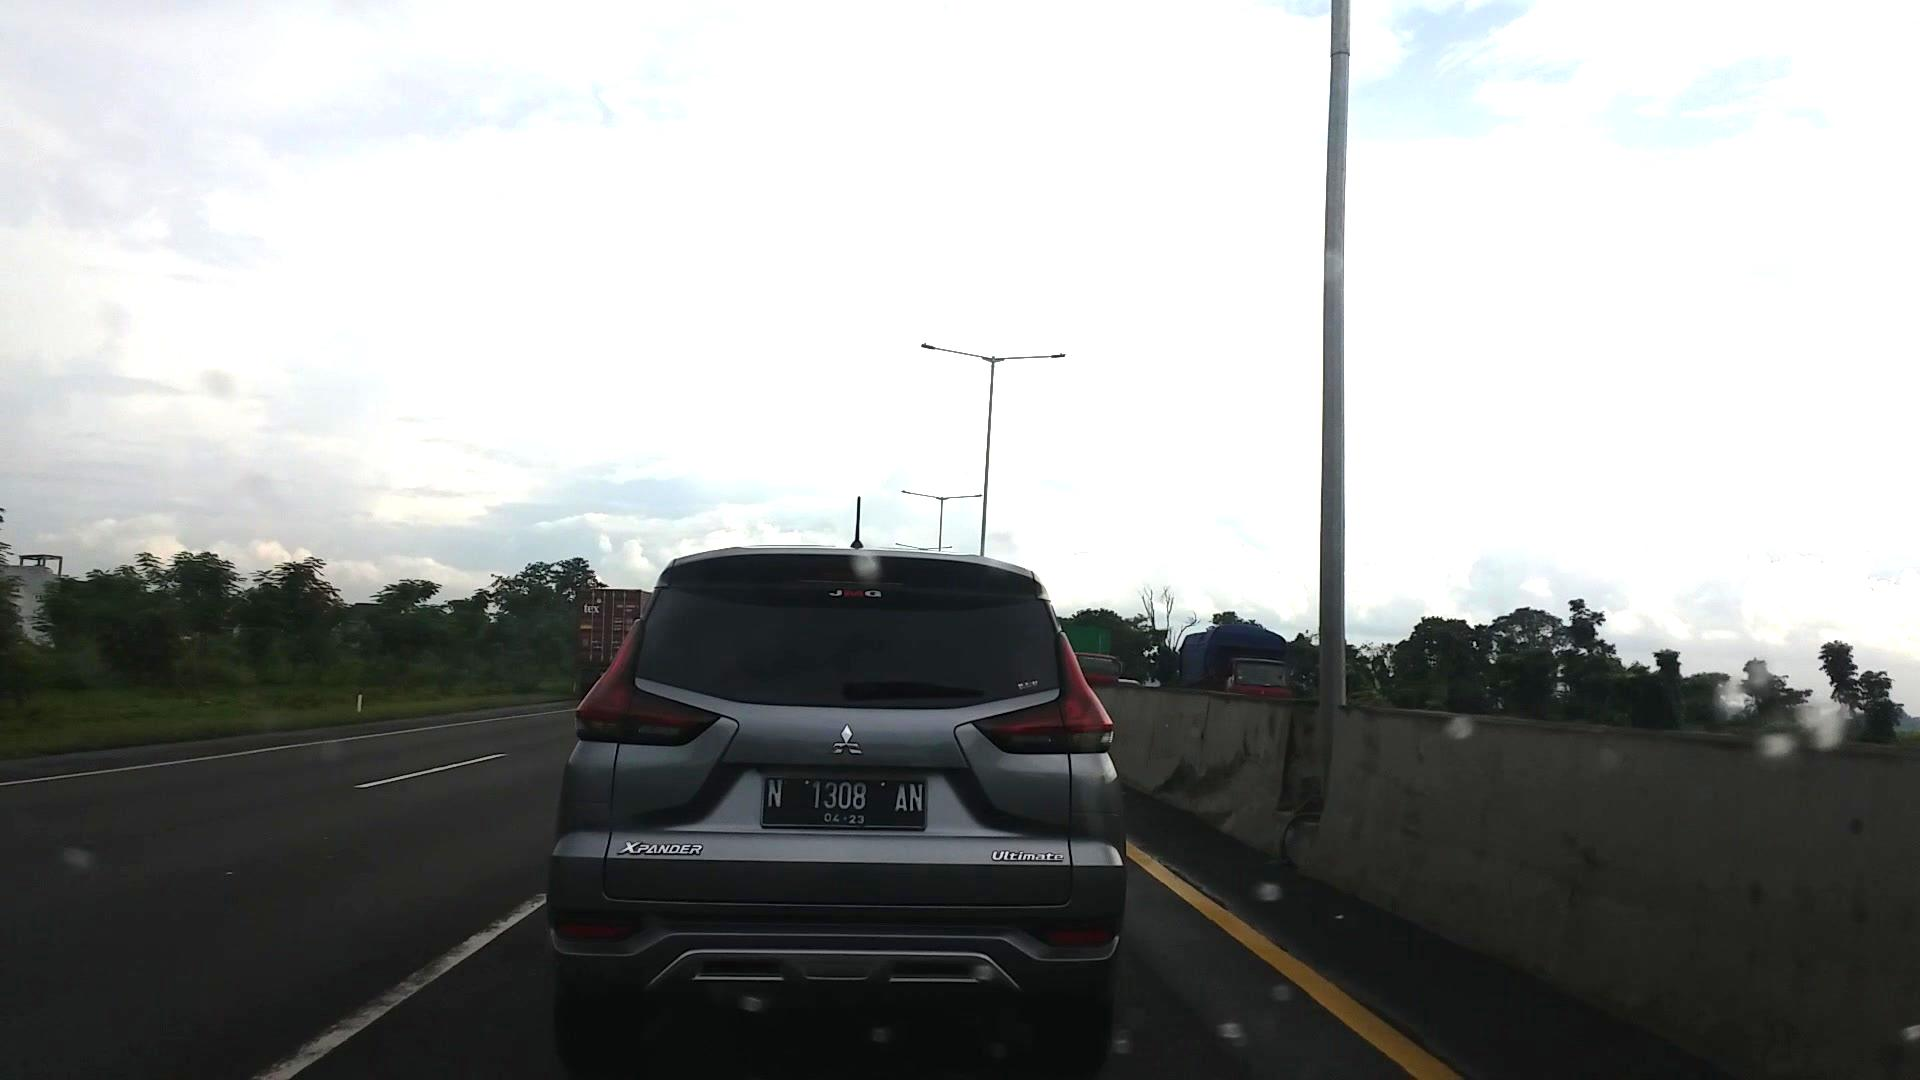plate_positive: (760, 775, 926, 829)
